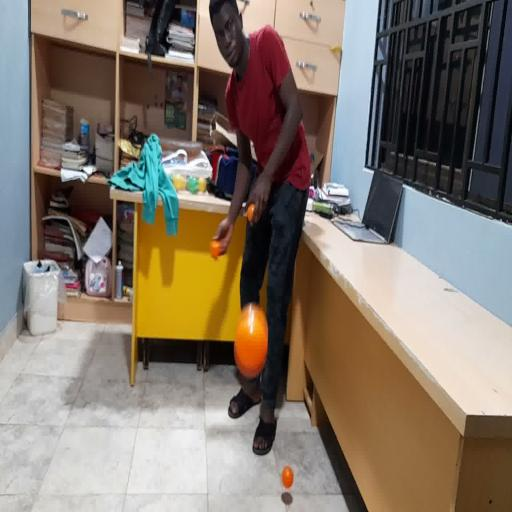plastic-ball: (234, 302, 270, 380)
